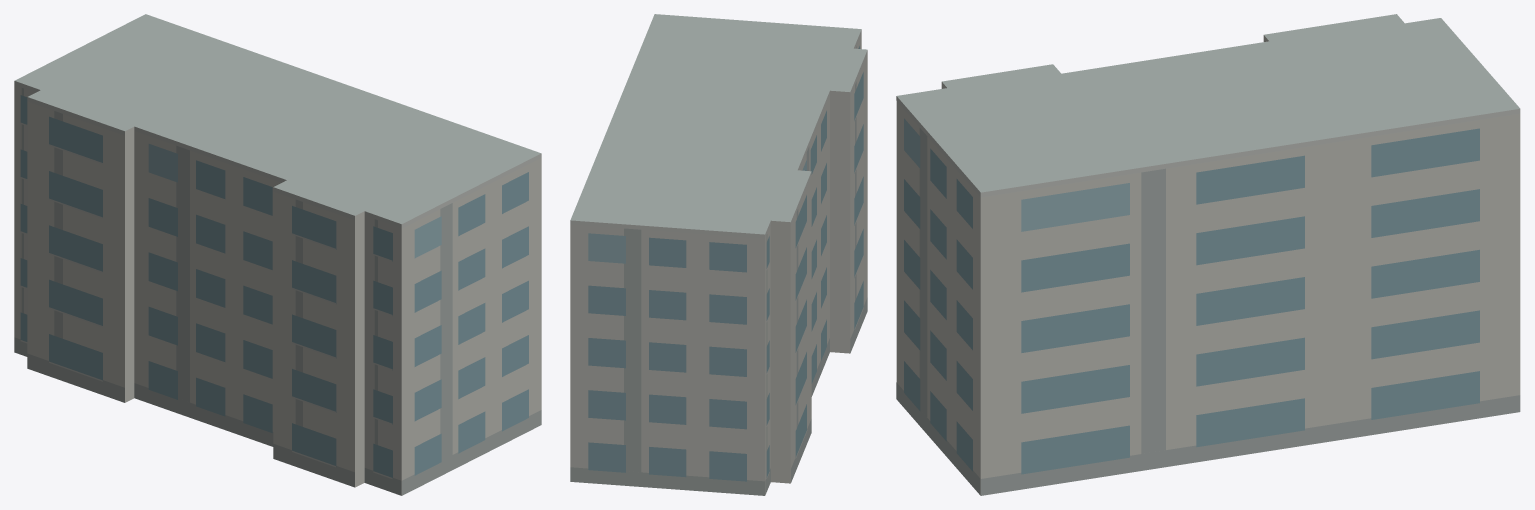
The model's file is residential-ede81232-aa52-4507-83d4-5b5b96c6b63b.glb.
3 views of the same model, side by side, from view 1: azimuth 30°, elevation 25°; view 2: azimuth 150°, elevation 25°; view 3: azimuth 270°, elevation 25° (orthographic). The views are drawn at different scales.
Parts seen in each view (by area): view 1: residential-ede81232-aa52-4507-83d4-5b5b96c6b63b.tmp; view 2: residential-ede81232-aa52-4507-83d4-5b5b96c6b63b.tmp; view 3: residential-ede81232-aa52-4507-83d4-5b5b96c6b63b.tmp.
Part boxes in pixels (left/top/right/bottom): residential-ede81232-aa52-4507-83d4-5b5b96c6b63b.tmp: left=14, top=14, right=541, bottom=495; residential-ede81232-aa52-4507-83d4-5b5b96c6b63b.tmp: left=570, top=14, right=867, bottom=495; residential-ede81232-aa52-4507-83d4-5b5b96c6b63b.tmp: left=896, top=14, right=1520, bottom=495.
Bounding box in the file's own units: 19.27 × 15.25 × 28.44.
